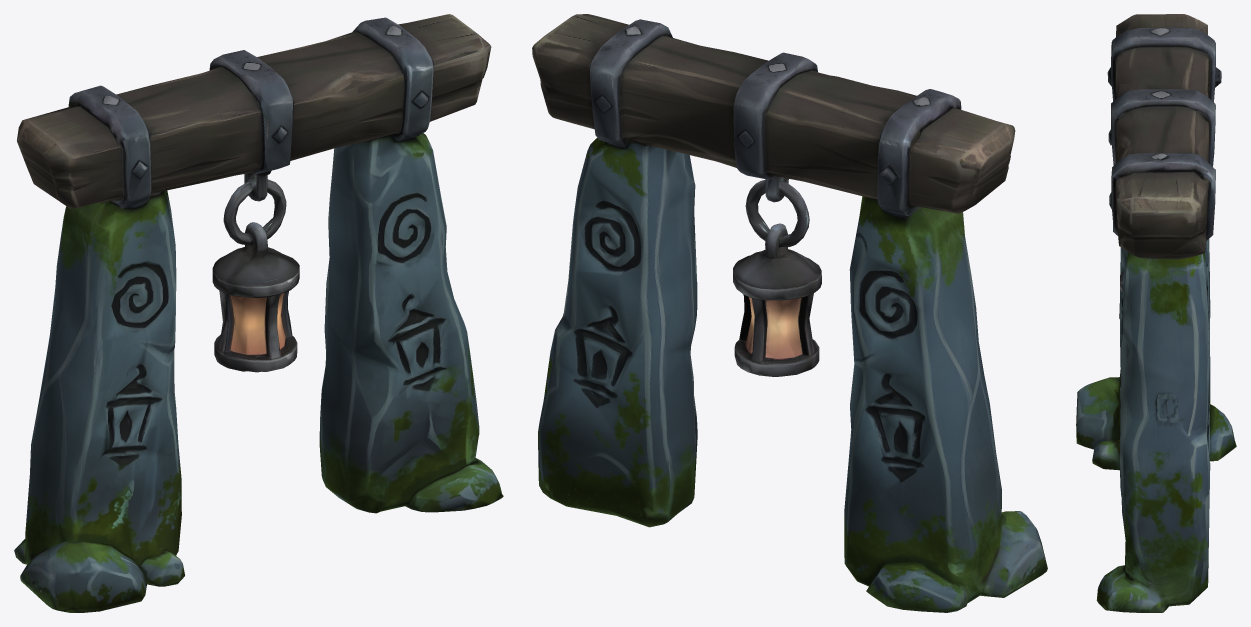
File: mesh_wayhome_gate_a.glb
3 renders of one model, left to right at view 1: azimuth 30°, elevation 25°; view 2: azimuth 150°, elevation 25°; view 3: azimuth 270°, elevation 25°, orthographic. The views are drawn at different scales.
Visible parts, largest first — view 1: mesh_wayhome_gate_a__Mesh_0; view 2: mesh_wayhome_gate_a__Mesh_0; view 3: mesh_wayhome_gate_a__Mesh_0.
Part boxes in pixels (<box>): mesh_wayhome_gate_a__Mesh_0: <box>14,14,503,612</box>; mesh_wayhome_gate_a__Mesh_0: <box>532,14,1047,612</box>; mesh_wayhome_gate_a__Mesh_0: <box>1076,14,1236,612</box>.
Size of the model in its own units: 14 by 13.6 by 4.68.
1 material, 1 textured.
